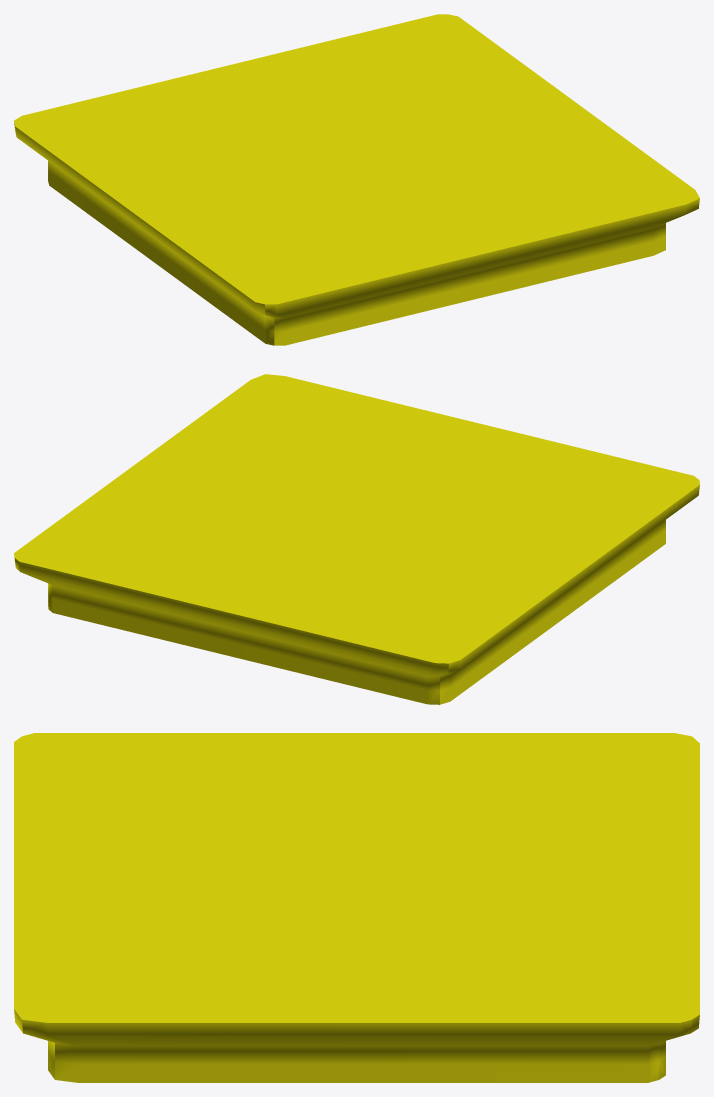
Rendered from Wooden_chair_base_v1.fbx.
3 views of the same model, one above another, from view 1: azimuth 30°, elevation 25°; view 2: azimuth 150°, elevation 25°; view 3: azimuth 270°, elevation 25° (orthographic). The views are drawn at different scales.
Visible parts, largest first — view 1: Wooden_Chair_base; view 2: Wooden_Chair_base; view 3: Wooden_Chair_base.
Part boxes in pixels (box(x1,y1,x2,y2)): Wooden_Chair_base: box(14, 14, 699, 345); Wooden_Chair_base: box(14, 374, 699, 704); Wooden_Chair_base: box(14, 733, 699, 1082).
Bounding box in the file's own units: 50 × 5.97 × 50.
